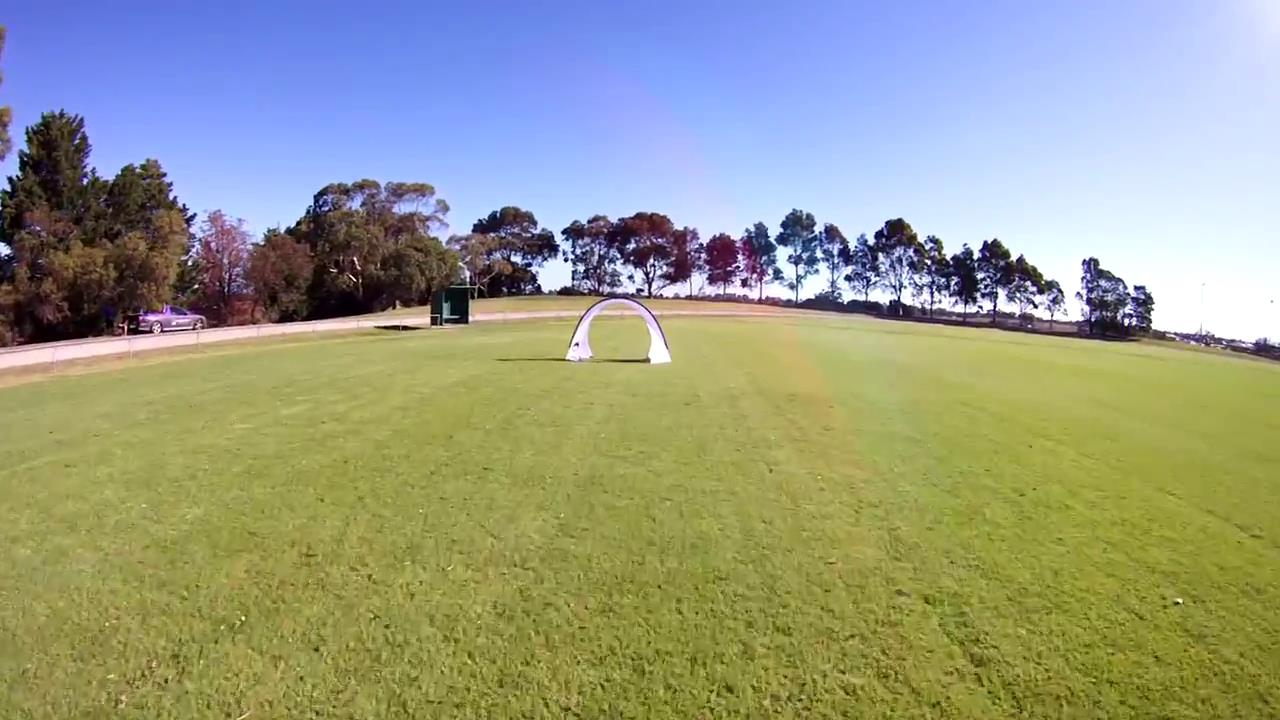gate: (561, 295, 675, 367)
